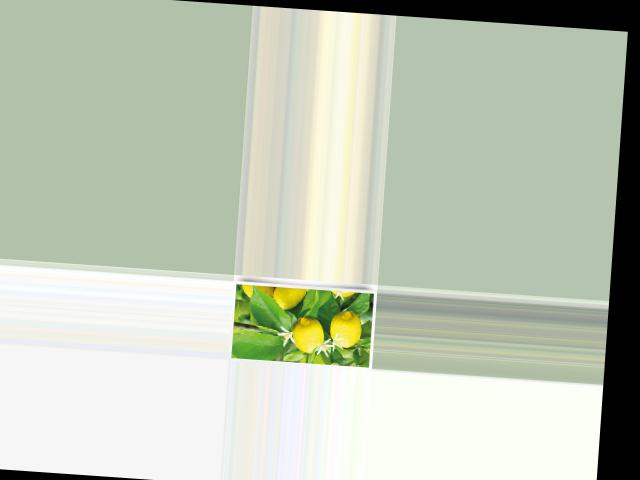lemon: (292, 314, 325, 356)
